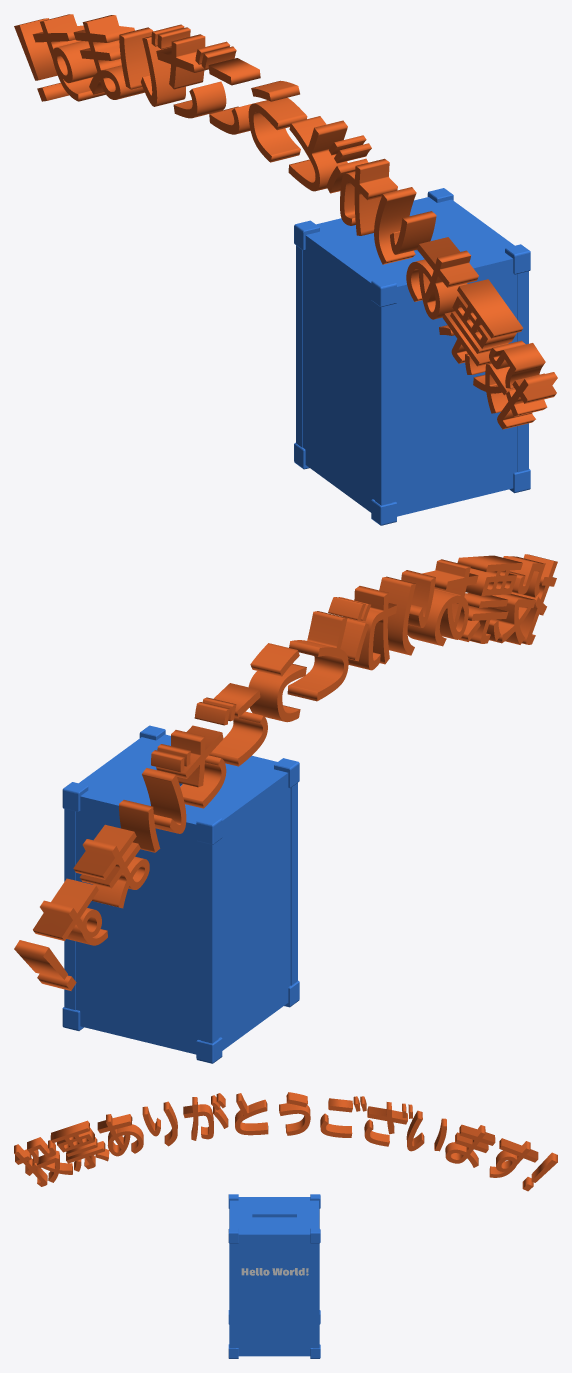
The model's file is asset.glb.
3 renders of one model, top to bottom at view 1: azimuth 30°, elevation 25°; view 2: azimuth 150°, elevation 25°; view 3: azimuth 270°, elevation 25°, orthographic. The views are drawn at different scales.
Visible parts, largest first — view 1: Text.001, hako, hone_2, hone_1; view 2: hako, Text.001, hone_2, hone_1; view 3: Text.001, hako, hone_2, hone_1, Text.
Boxes of the visible parts, x1,y1,x2,y2 form: Text.001: [14, 14, 557, 429]; hako: [303, 197, 517, 516]; hone_2: [296, 245, 528, 505]; hone_1: [294, 188, 530, 525]; hako: [76, 734, 290, 1054]; Text.001: [14, 554, 557, 990]; hone_2: [64, 783, 297, 1043]; hone_1: [62, 725, 299, 1063]; Text.001: [14, 1092, 557, 1191]; hako: [230, 1197, 318, 1356]; hone_2: [229, 1208, 319, 1348]; hone_1: [228, 1194, 320, 1358]; Text: [241, 1268, 308, 1275].
Size of the model in its own units: 2.81 by 5.29 by 12.18.
